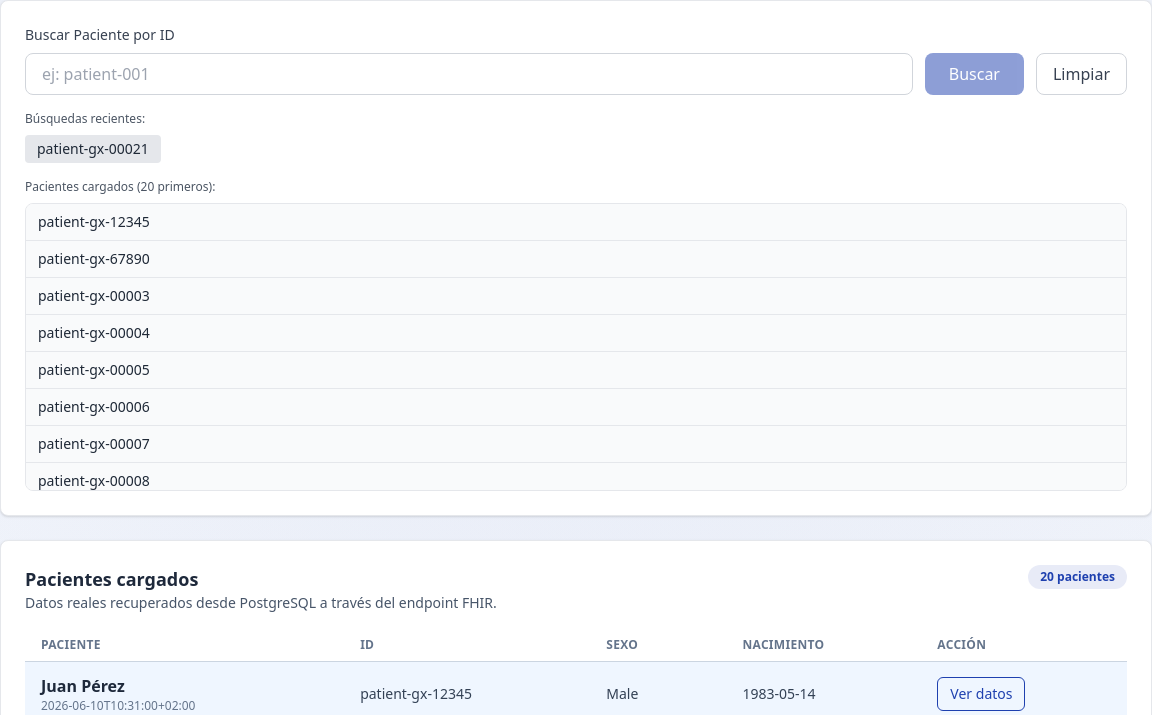
Scenario: Dashboard › shows a clear message when patient id is not found
The image size is (1152, 715).
Type "patient-gx-99999" into the field with placeholder "ej: patient-001". click: {"x": 469, "y": 74}
box: [25, 53, 913, 95]
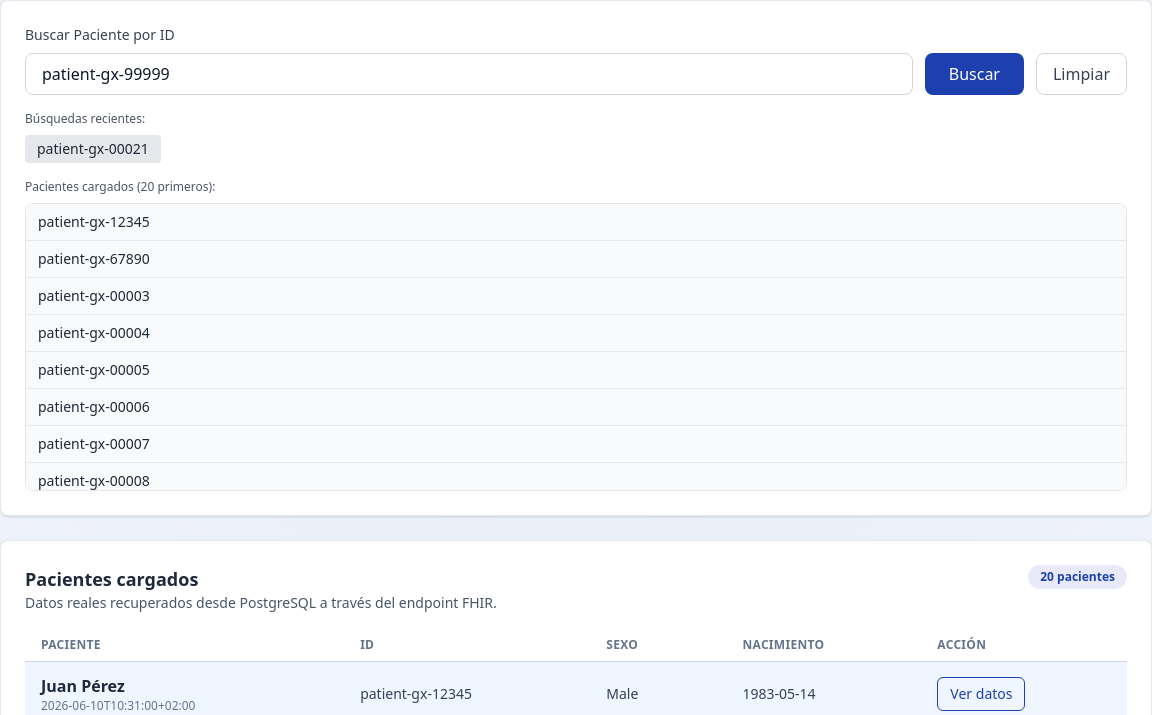
Click the button "Buscar". click: {"x": 974, "y": 74}
box: [925, 53, 1024, 95]
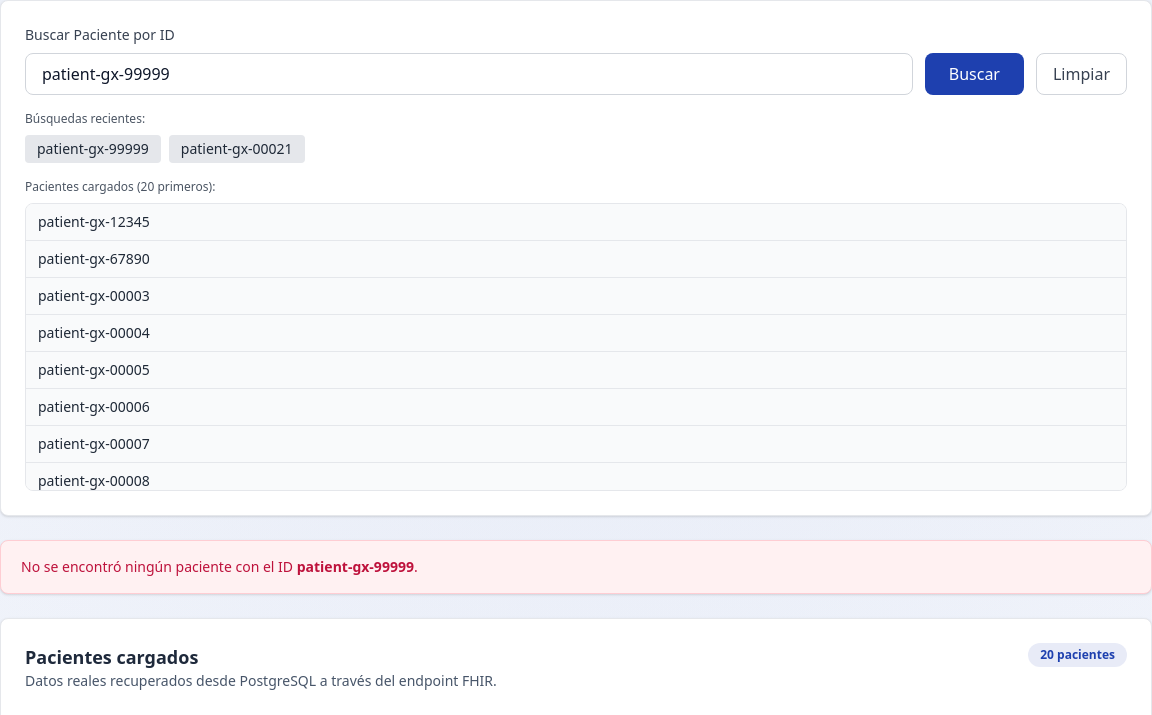
Check: the text "No se encontró ningún paciente con el ID patient-gx-99999." is shown, box [0, 540, 1151, 594]
